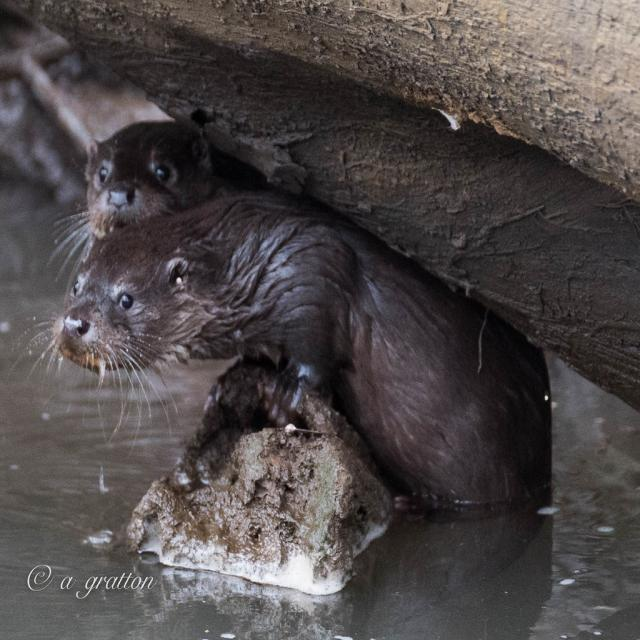otter: (62, 195, 548, 504), (87, 125, 217, 243)
